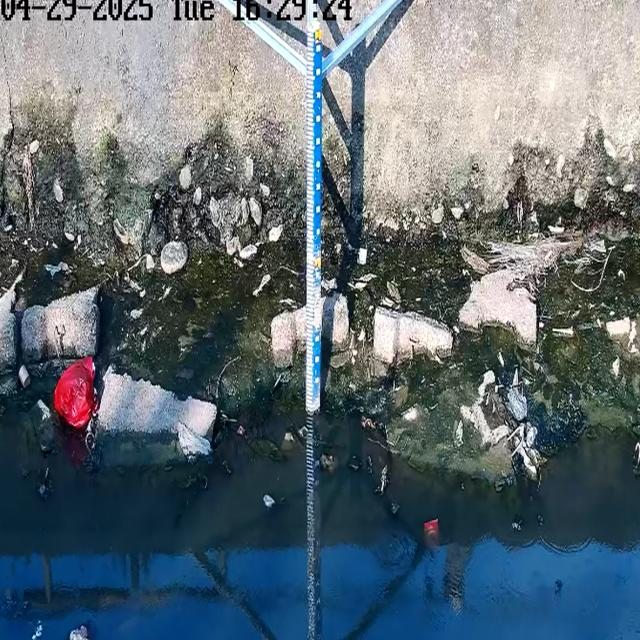water-meter: (302, 21, 326, 424)
